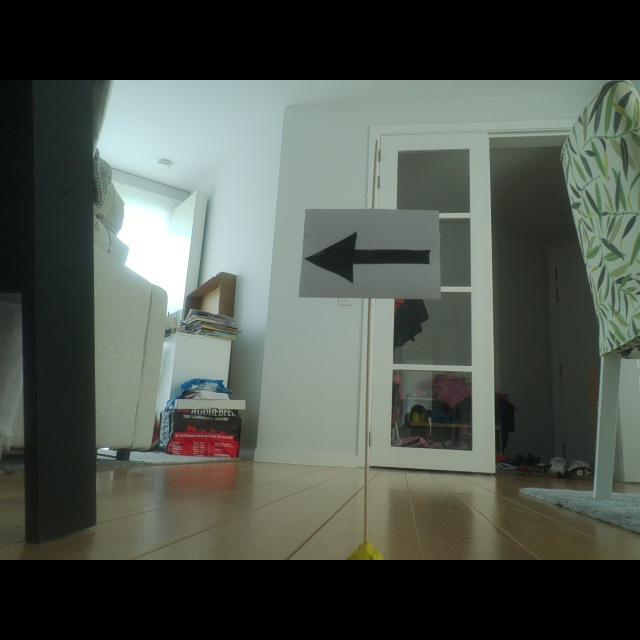balra_nyil: (306, 232, 429, 282)
